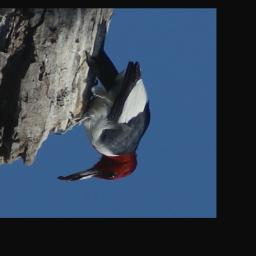Woodpecker: (58, 18, 152, 183)
